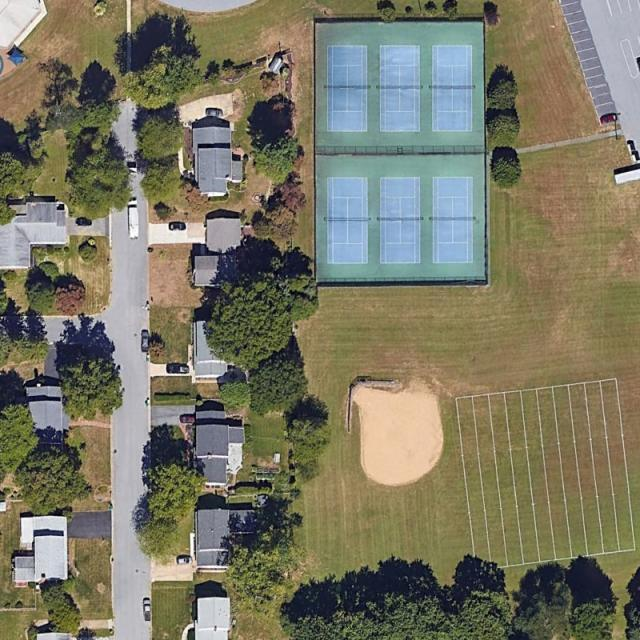vehicle: (128, 198, 138, 240), (140, 330, 149, 353), (143, 600, 152, 622), (167, 365, 189, 374), (601, 113, 618, 124), (169, 222, 186, 230), (180, 415, 195, 424), (75, 219, 92, 226), (176, 558, 192, 565), (206, 109, 222, 116)
